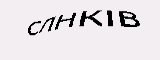Ж: (51, 21, 68, 41)
М: (75, 10, 89, 32)
Н: (64, 16, 77, 39)
С: (88, 2, 112, 29)
Т: (34, 20, 54, 41)
